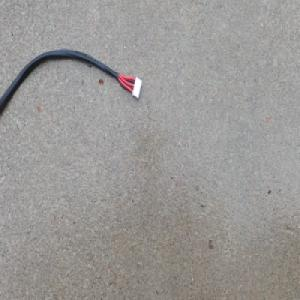Wire: (0, 46, 143, 118)
